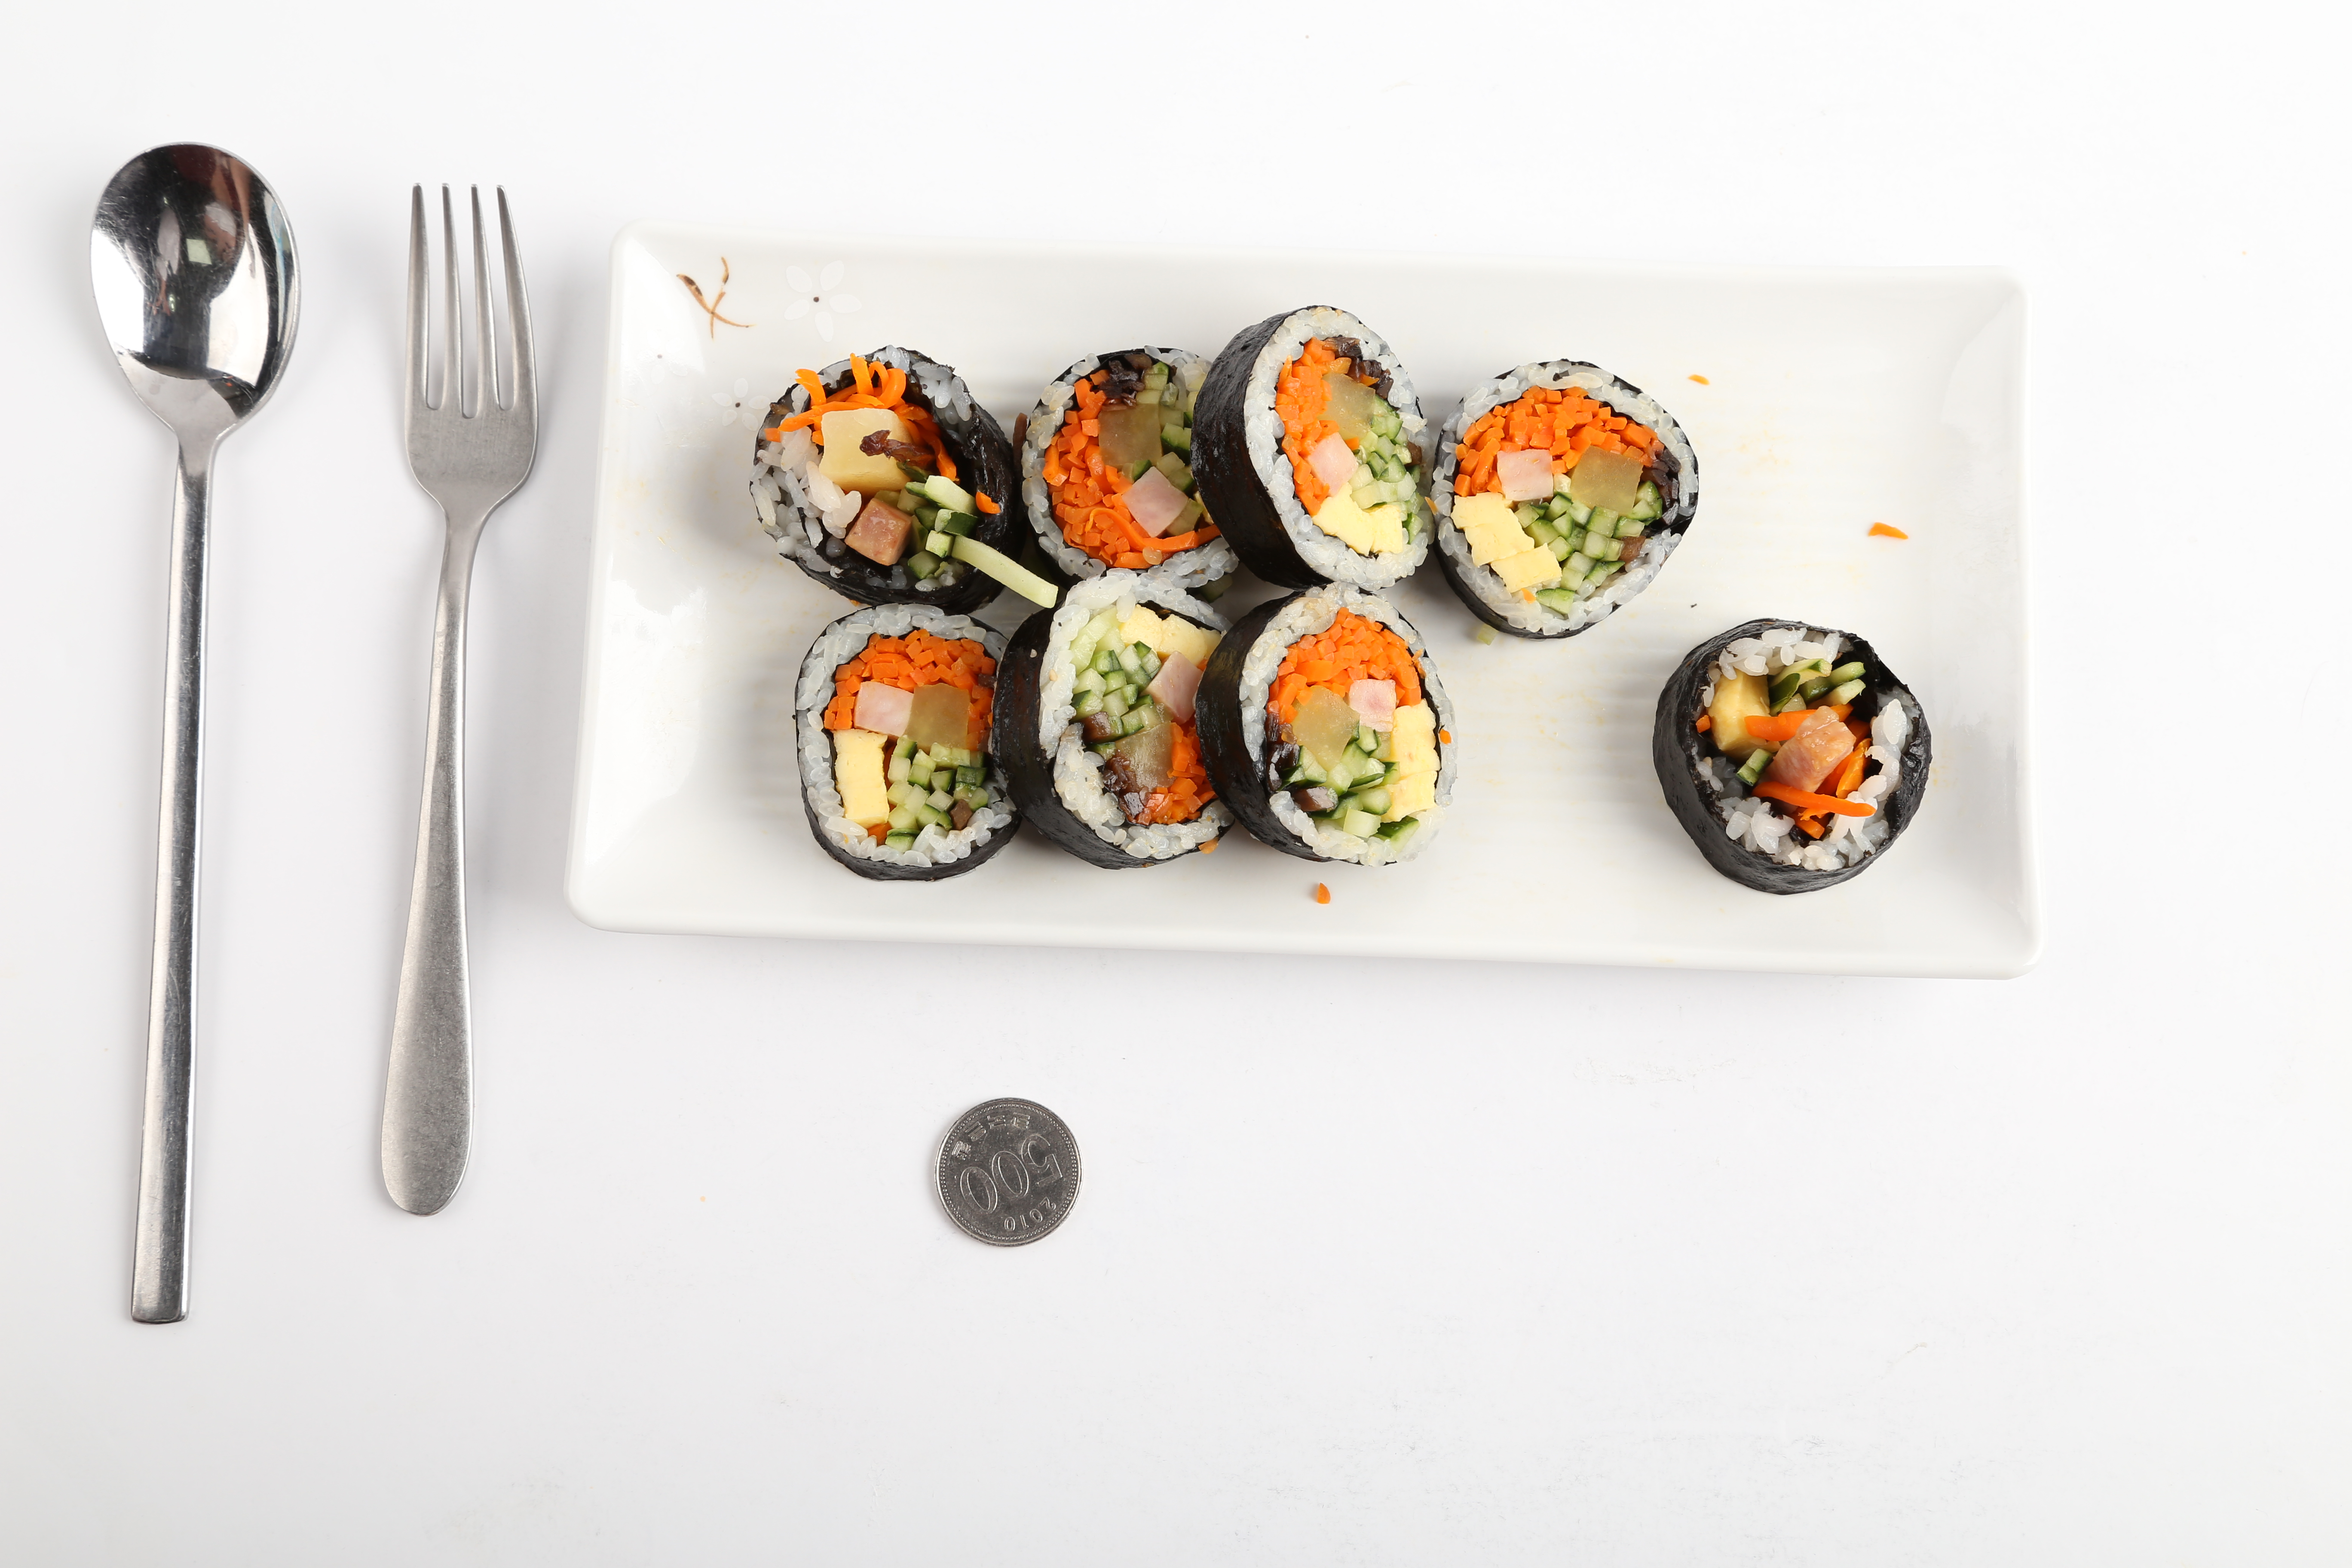dish: (563, 222, 2033, 976)
ref_coin: (927, 1094, 1087, 1256)
ref_fork: (397, 173, 544, 569)
ref_spoon: (80, 142, 303, 499)
김밥: (744, 303, 1935, 898)
